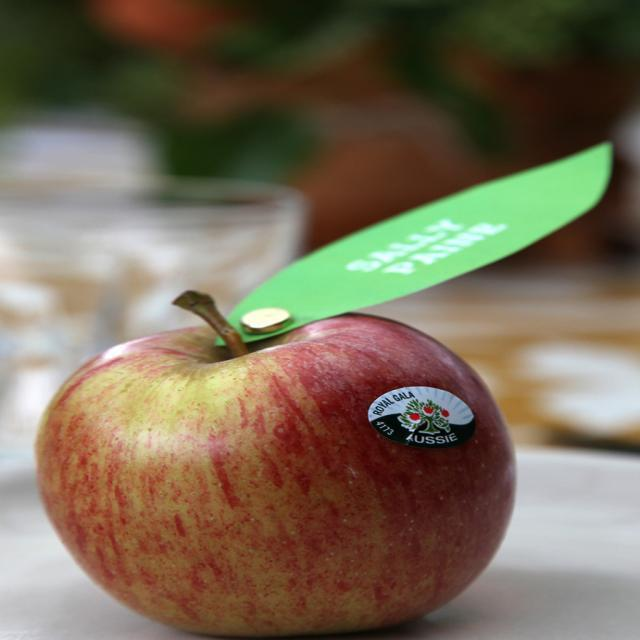Apple: (32, 289, 518, 637)
